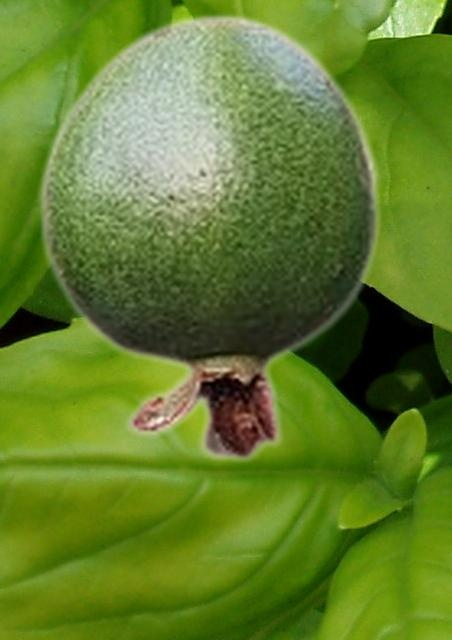guava: (37, 11, 383, 464)
